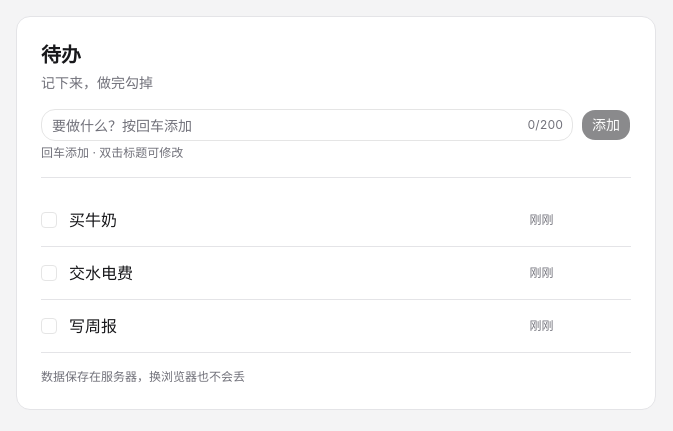
Test: Story 3.4 行内编辑集成补充（TodoApp + 契约替身） › [P0] AC-3 FE-E2 清空即删除：只发 DELETE、不发 PATCH、无确认框；确认前行仍在，204 后行消失、帮助行回到新增文案
Expected: the number of list items is 3, 41,194 -> 631,247; 41,247 -> 631,300; 41,300 -> 631,353
Double-click the button with aria-label "编辑：交水电费": [101, 273] box 69,261 -> 517,285
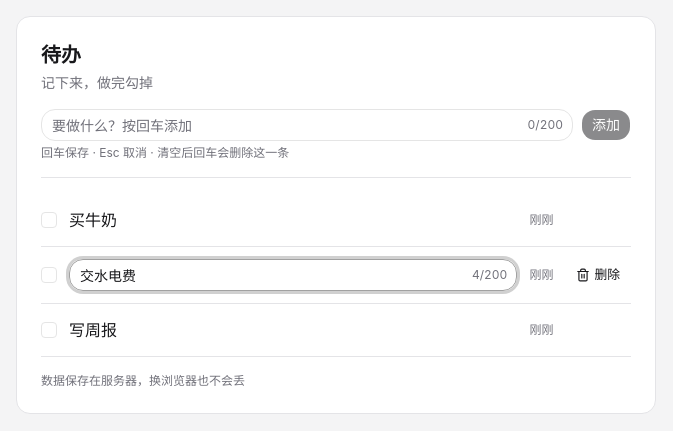
Clear the field named "编辑待办标题：交水电费": [293, 275] box 69,259 -> 517,291
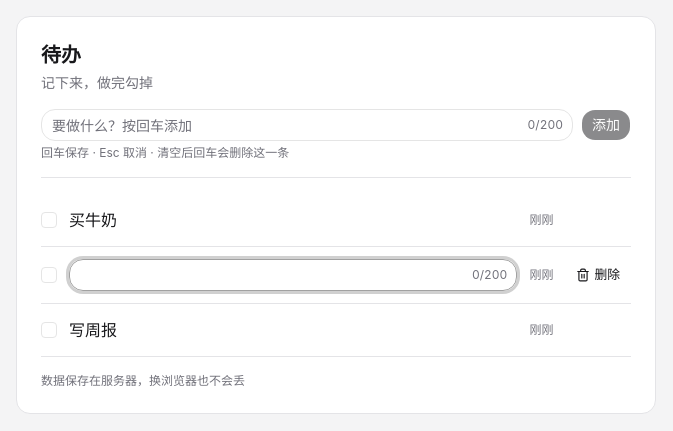
Press Enter
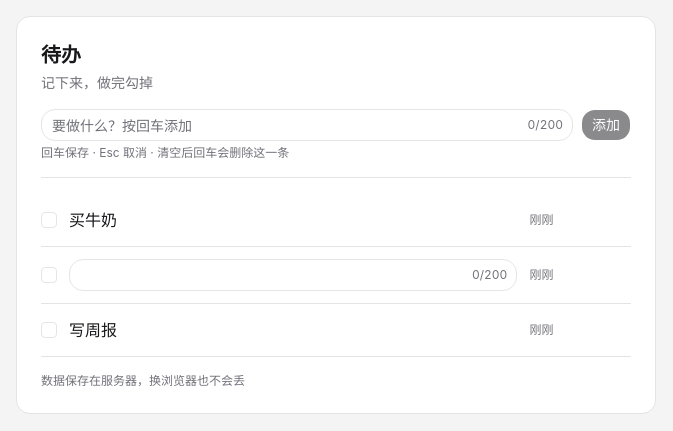
Clear the field named "编辑待办标题：交水电费": [293, 275] box 69,259 -> 517,291
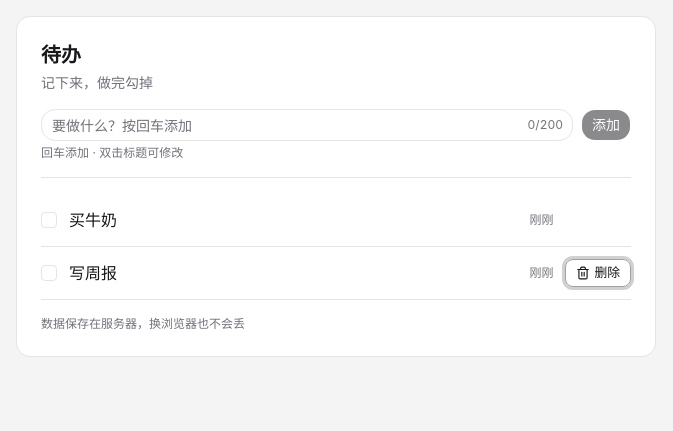
Expected: the text with id "todo-help" reads "回车添加 · 双击标题可修改", 41,145 -> 183,160
